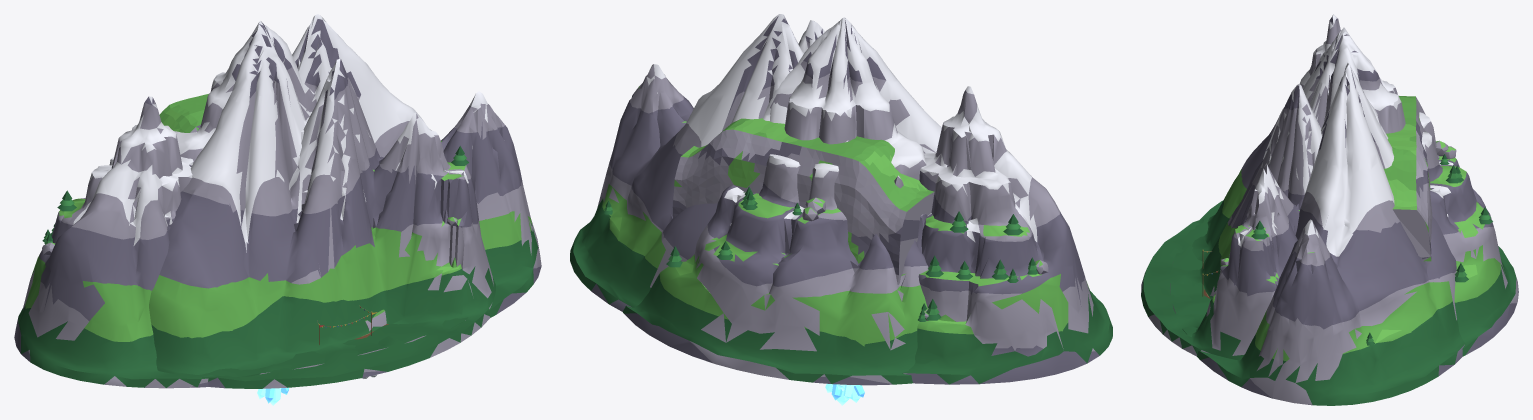
File: elderglow_land.glb
3 views of the same model, side by side, from view 1: azimuth 30°, elevation 25°; view 2: azimuth 150°, elevation 25°; view 3: azimuth 270°, elevation 25° (orthographic). The views are drawn at different scales.
Parts seen in each view (by area): view 1: EG_Mountain_A, EG_Mountain_B, EG_RuneCliff_B; view 2: EG_Mountain_B, EG_Mountain_A, EG_RuneCliff_B, EG_FloatIsle_A; view 3: EG_Mountain_B, EG_Mountain_A, EG_RuneCliff_B.
Boxes of the visible parts, left/top/right/bottom form: EG_Mountain_A: left=149, top=21, right=495, bottom=388; EG_Mountain_B: left=14, top=14, right=541, bottom=388; EG_RuneCliff_B: left=159, top=94, right=208, bottom=132; EG_Mountain_B: left=570, top=14, right=1112, bottom=384; EG_Mountain_A: left=623, top=17, right=941, bottom=385; EG_RuneCliff_B: left=672, top=118, right=934, bottom=284; EG_FloatIsle_A: left=825, top=383, right=864, bottom=405; EG_Mountain_B: left=1170, top=14, right=1465, bottom=405; EG_Mountain_A: left=1141, top=27, right=1518, bottom=360; EG_RuneCliff_B: left=1384, top=96, right=1432, bottom=261.
Bounding box in the file's own units: 200 × 147 × 140.
